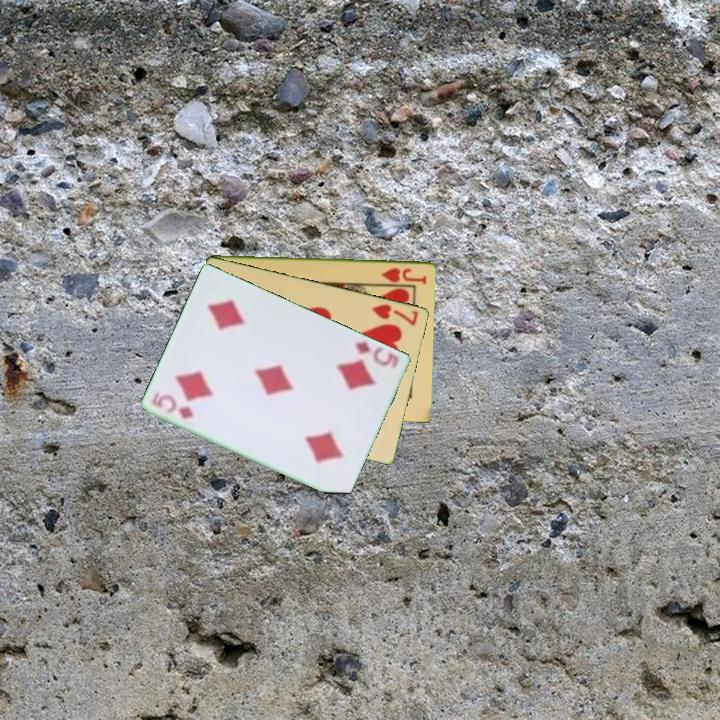5d: (351, 337, 403, 372), (157, 394, 197, 422)
7h: (368, 300, 421, 328)
Jh: (379, 264, 430, 287)
